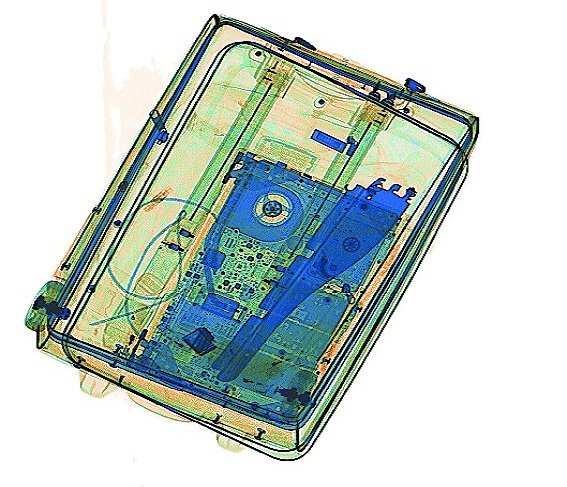lighter: (238, 347, 309, 385), (112, 299, 150, 358), (148, 320, 201, 357), (225, 366, 280, 397)
